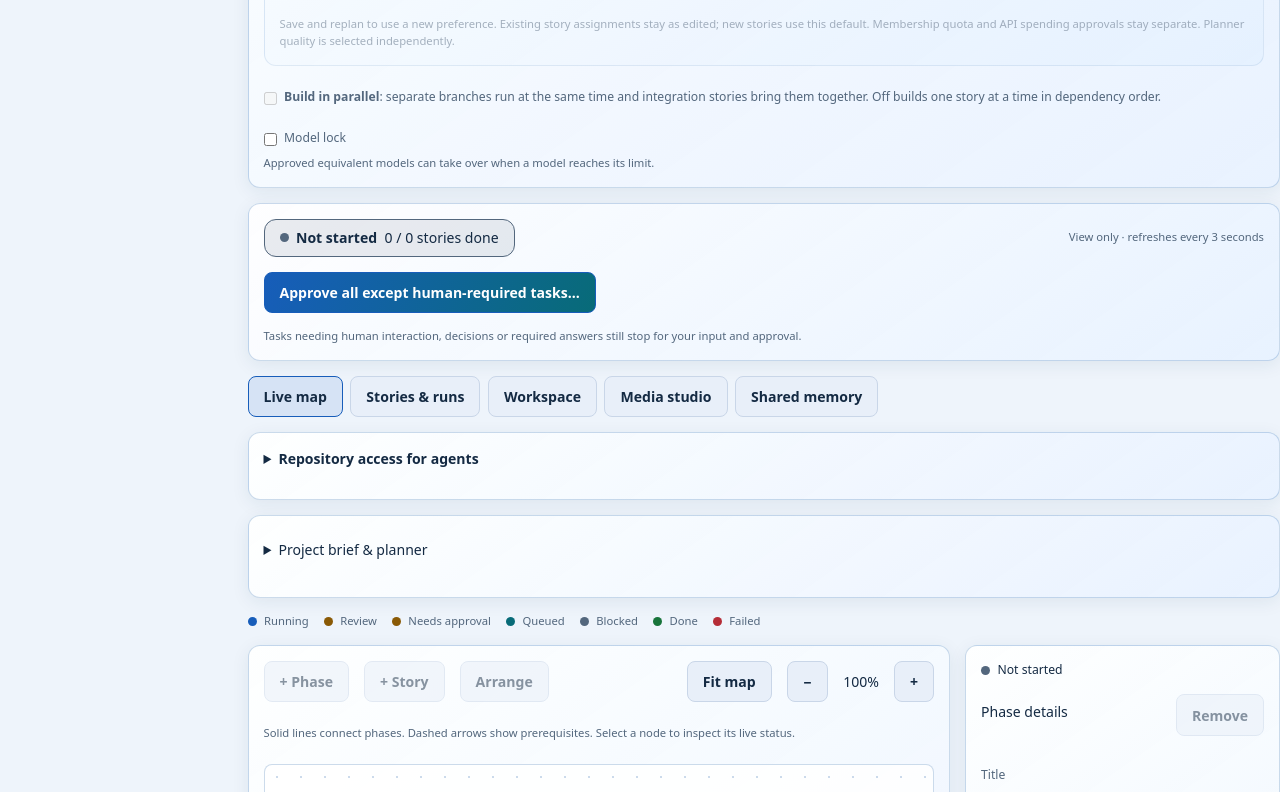
says why a slots file it found cannot be used, instead of claiming there are no slots
This screenshot has width=1280, height=792.
(page scrolled)
Click the button "Media studio": click(666, 397) left=604, top=376, right=728, bottom=417
(page scrolled)
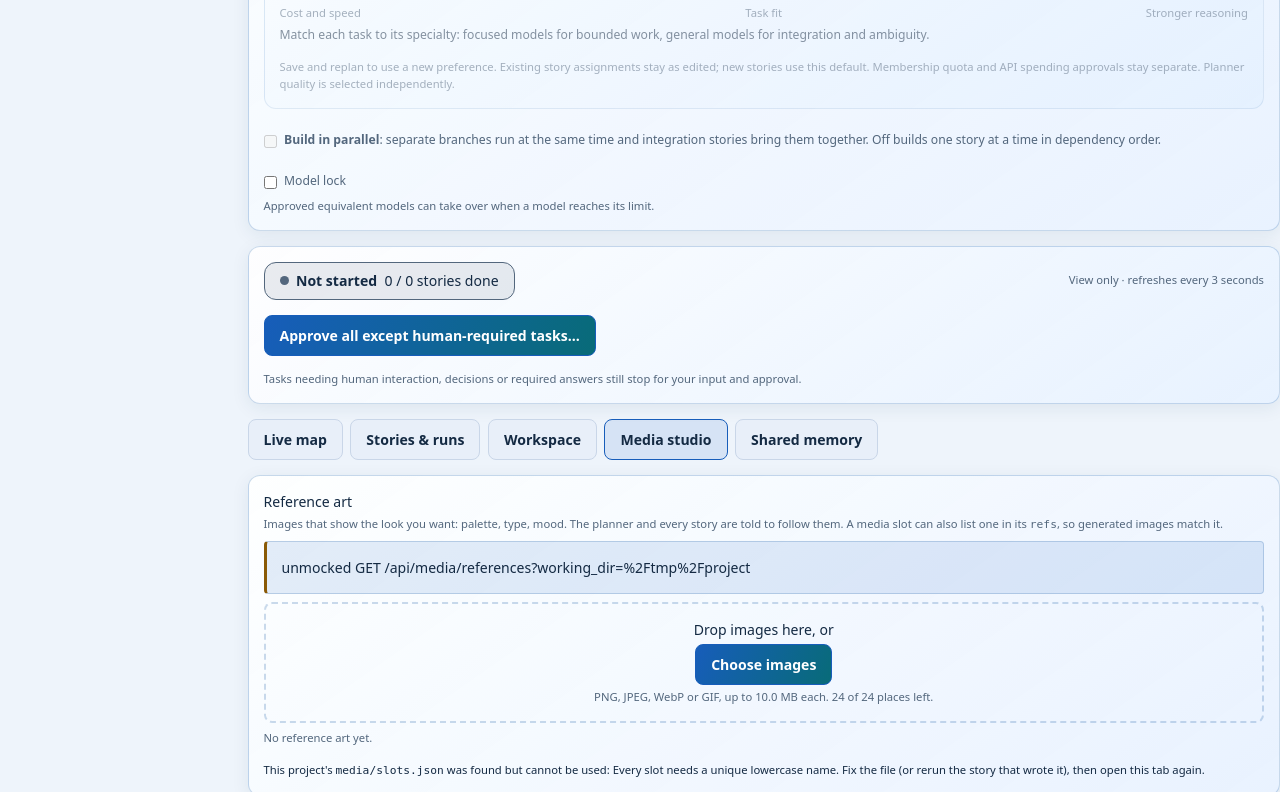
Result: the message with test id "media-slots-invalid" shows "Every slot needs a unique lowercase name." at left=444, top=762, right=1205, bottom=777
